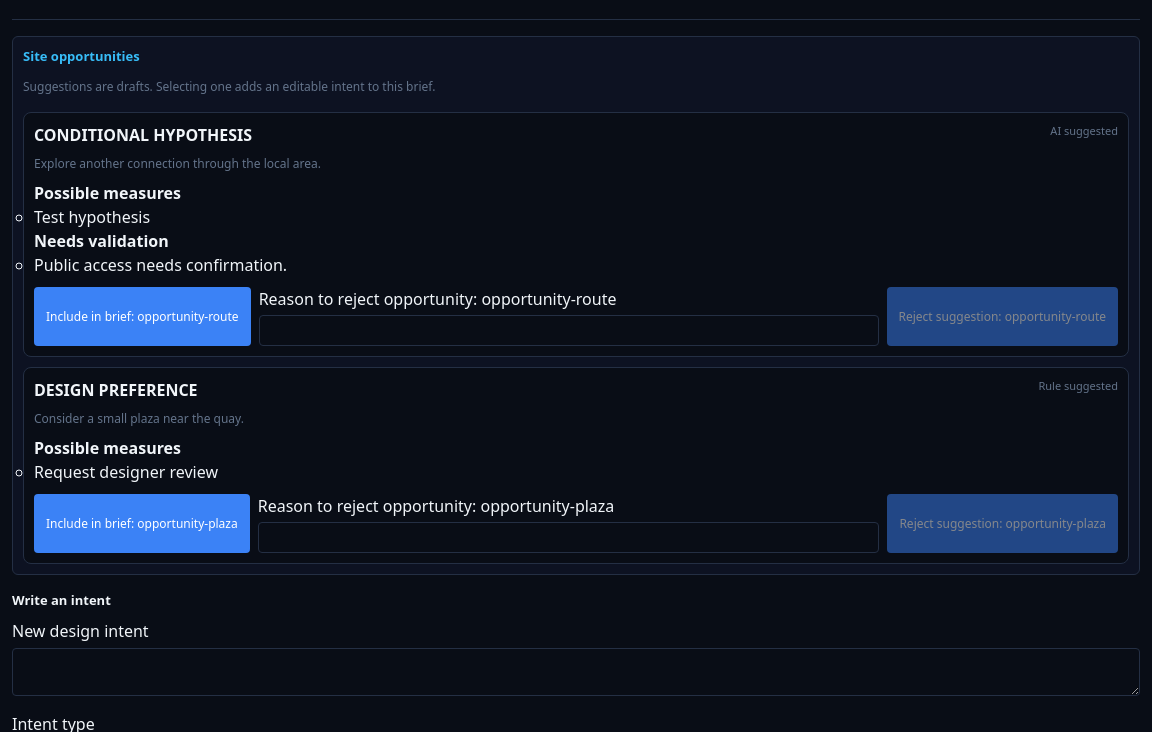
DesignBriefPanel › saves a modified opportunity plus a rejected suggestion and reloads the draft
(page scrolled)
Click the button "Include in brief: opportunity-route".
click(142, 317)  # box [34, 287, 251, 346]
(page scrolled)
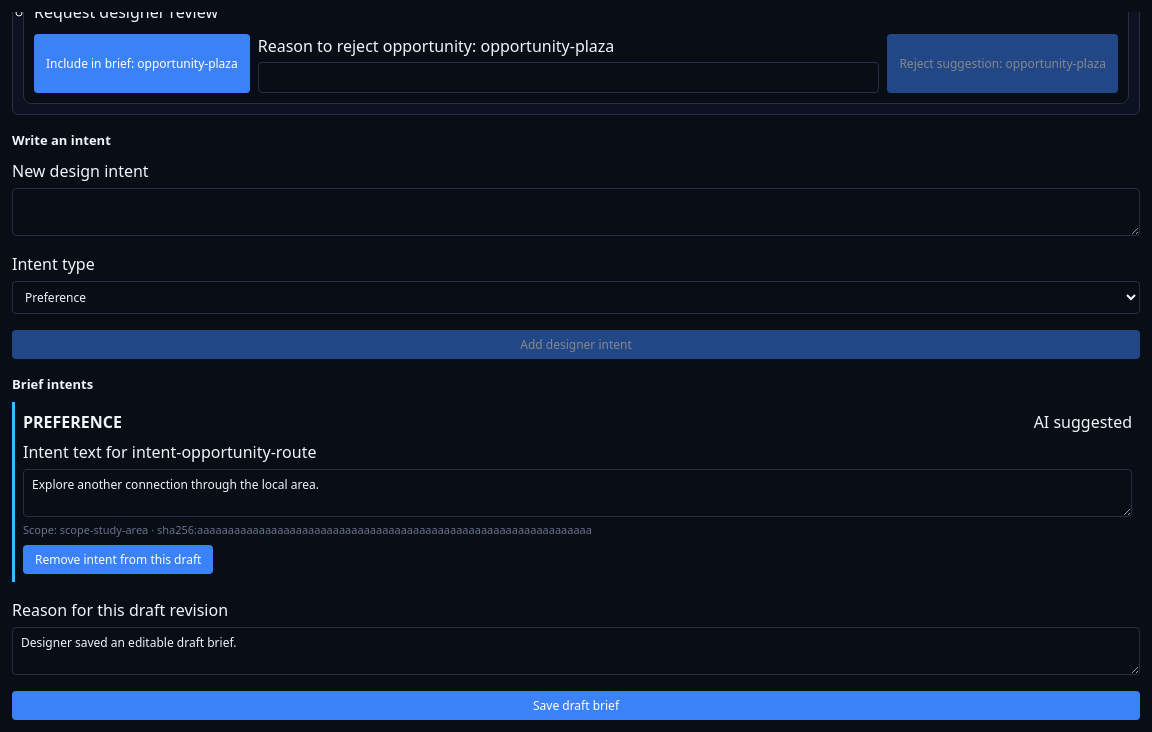
Replace the text in the text box labelled "Intent text for intent-opportunity-route" with "Edit the suggested route, then inspect its continuity." at {"x": 578, "y": 493}, box [23, 469, 1132, 517]
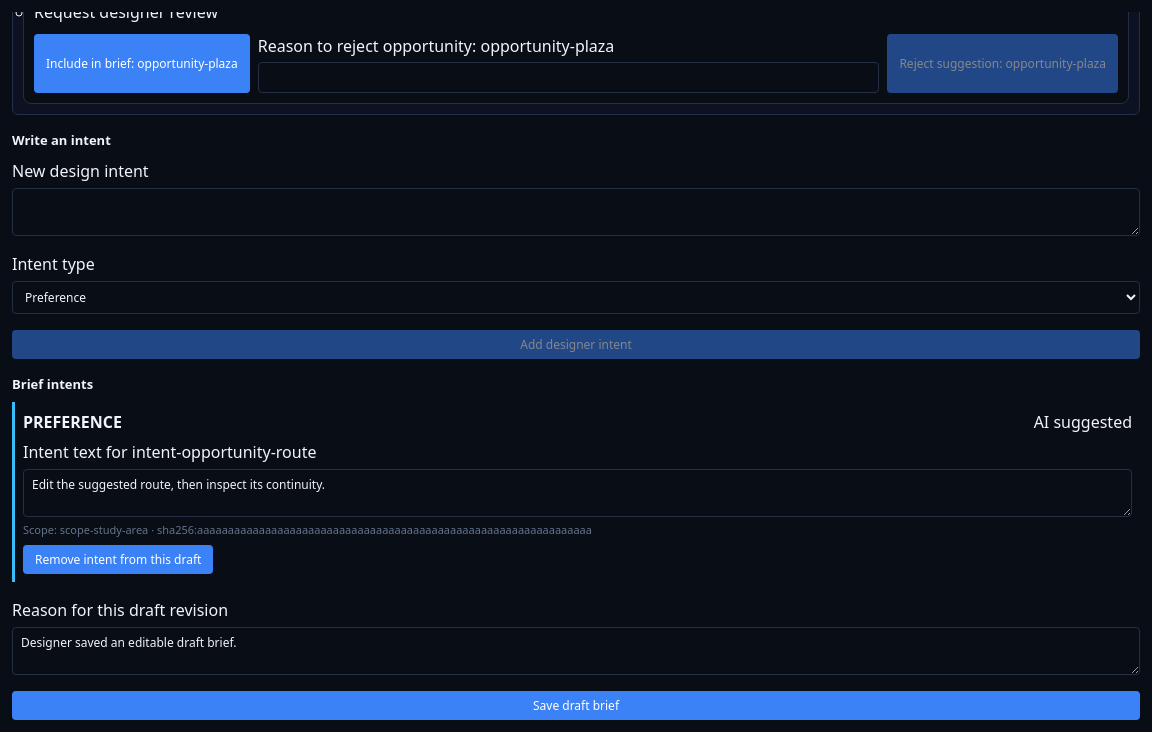
Type "Keep the existing quay edge unobstructed." into the field labelled "Reason to reject opportunity: opportunity-plaza".
click(569, 78); type("Keep the existing quay edge unobstructed.")  # box [258, 62, 879, 93]
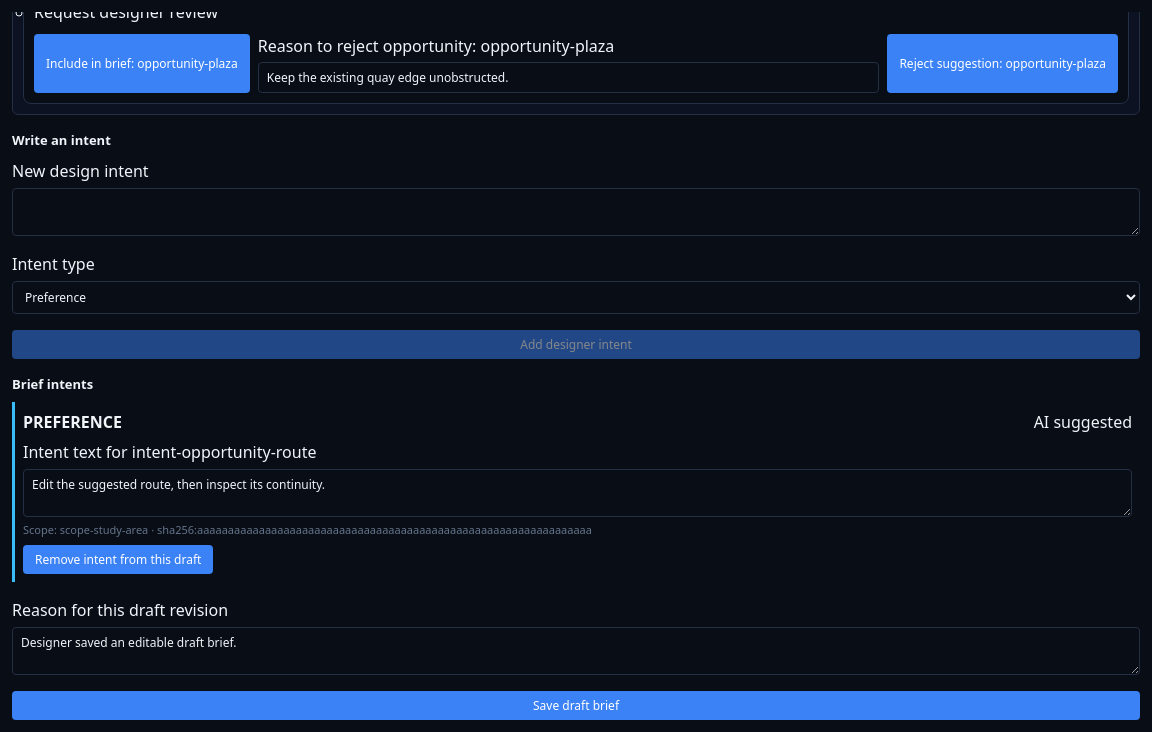
Click the button "Reject suggestion: opportunity-plaza".
click(1003, 64)  # box [887, 34, 1118, 93]
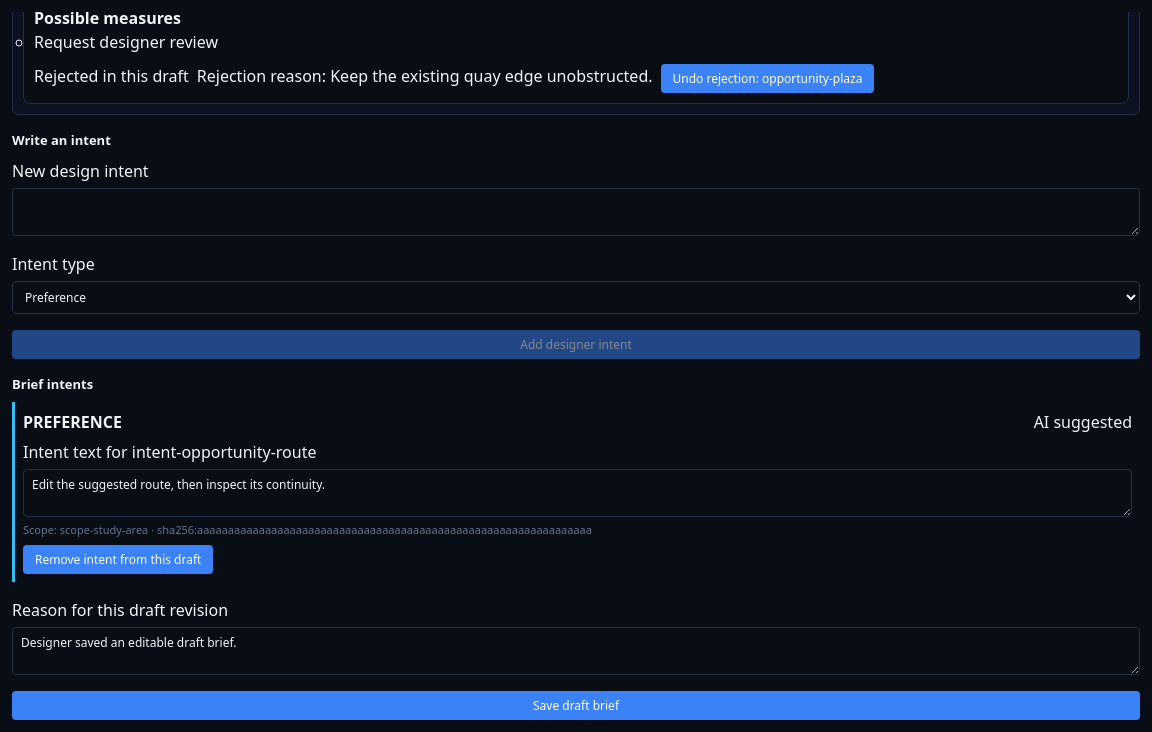
Click the button "Save draft brief".
click(576, 705)  # box [12, 691, 1140, 720]
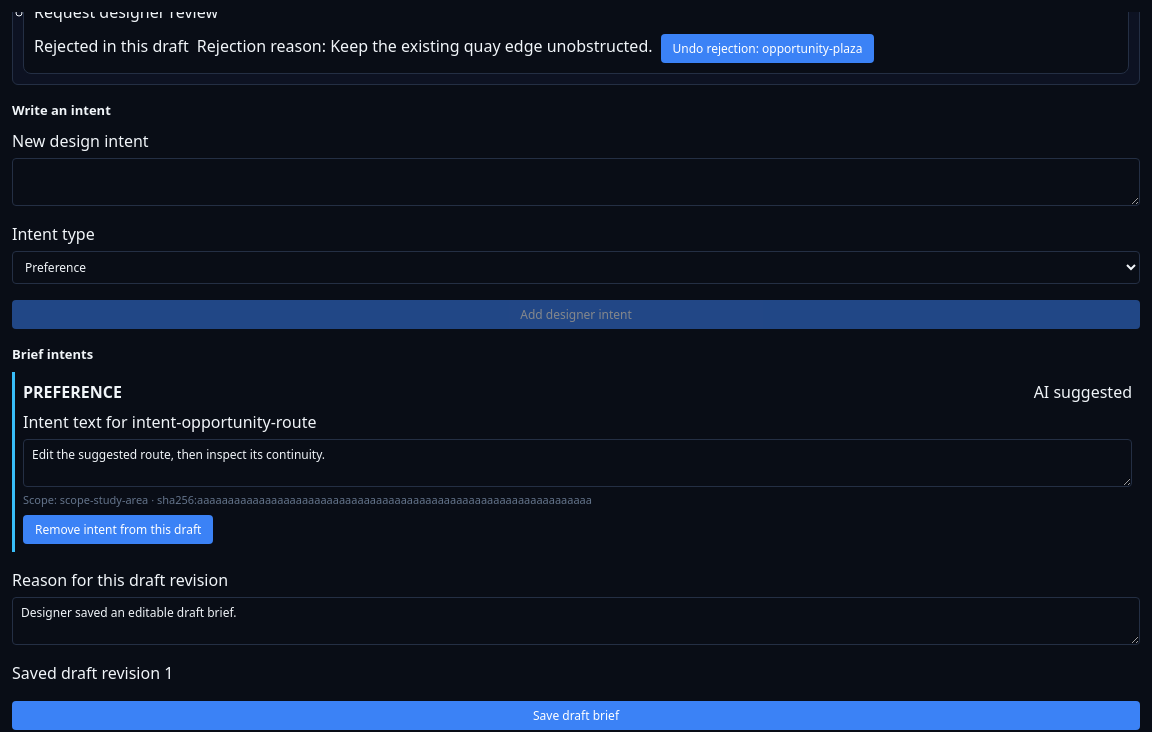
Expected: the text "Rejection reason: Keep the existing quay edge unobstructed." is shown, [197, 34, 652, 63]
Expected: the text "Saved draft revision 1" is shown, [12, 662, 173, 684]
